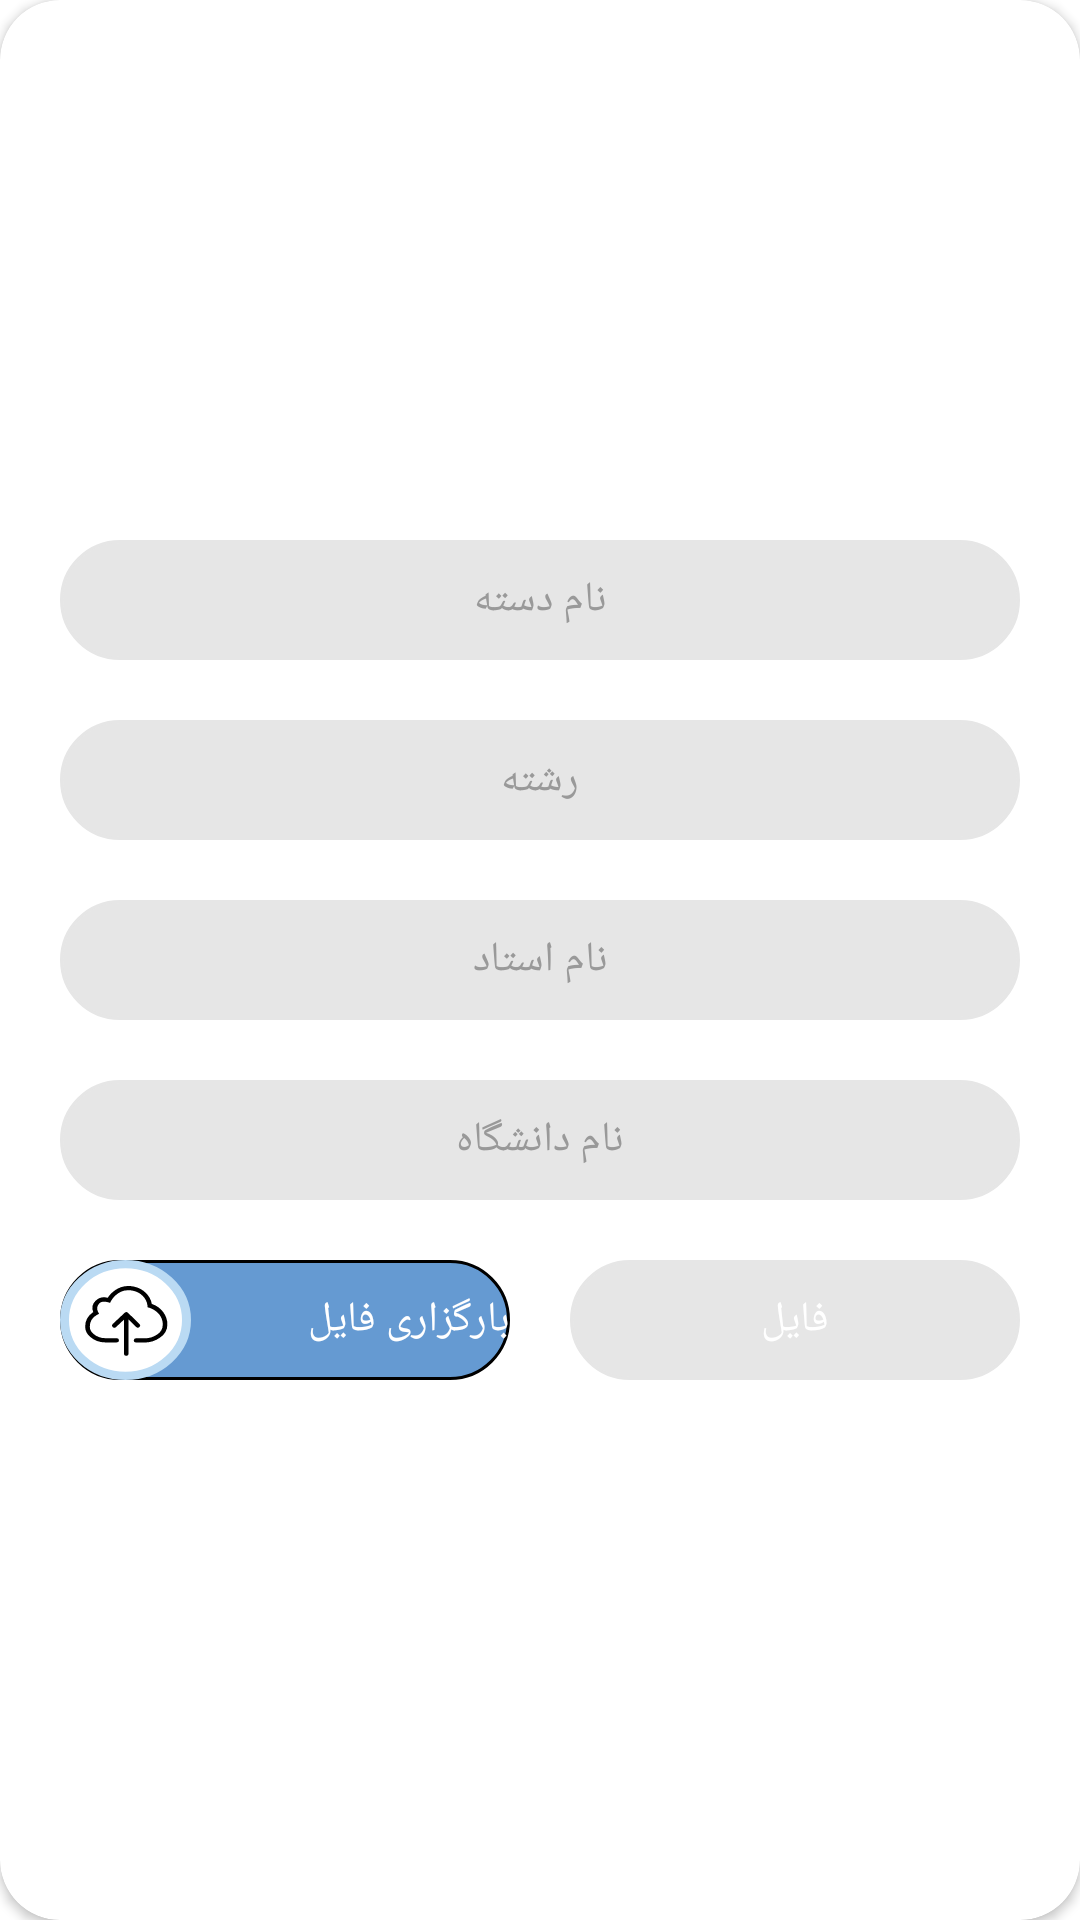

Icon bounding boxes for this 1080×1920 phone screenshot, format (x1, y1, x2, y2):
upload: (60, 1260, 191, 1380)
